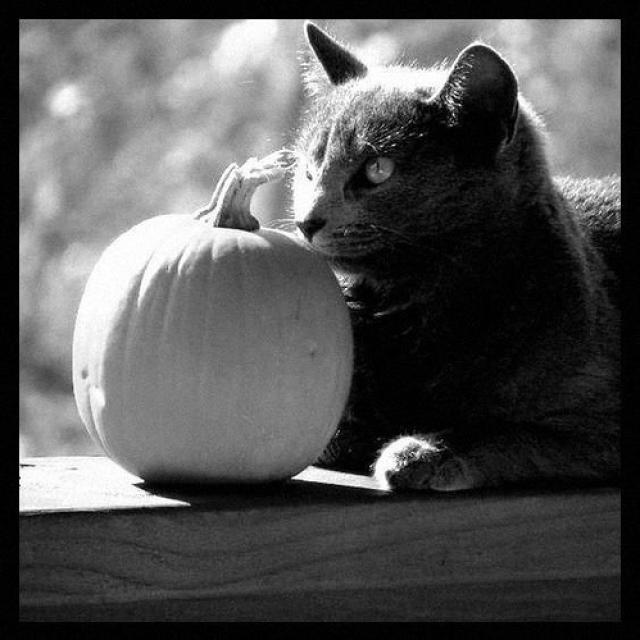cat: (293, 22, 640, 493)
